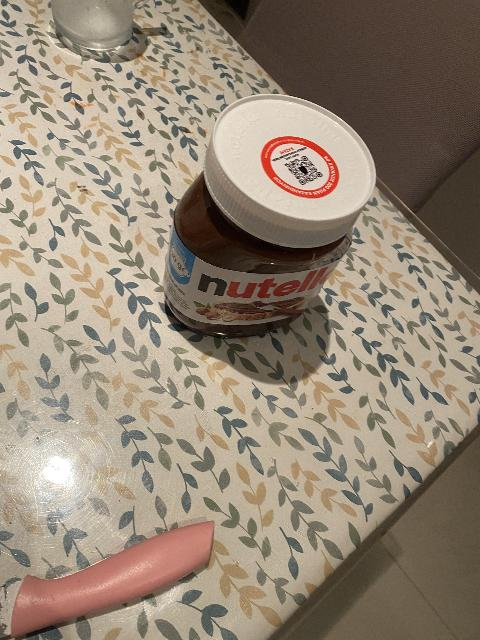Cam: (163, 90, 381, 341), (40, 0, 156, 52)
Plastik: (203, 89, 383, 237), (159, 222, 359, 340)
